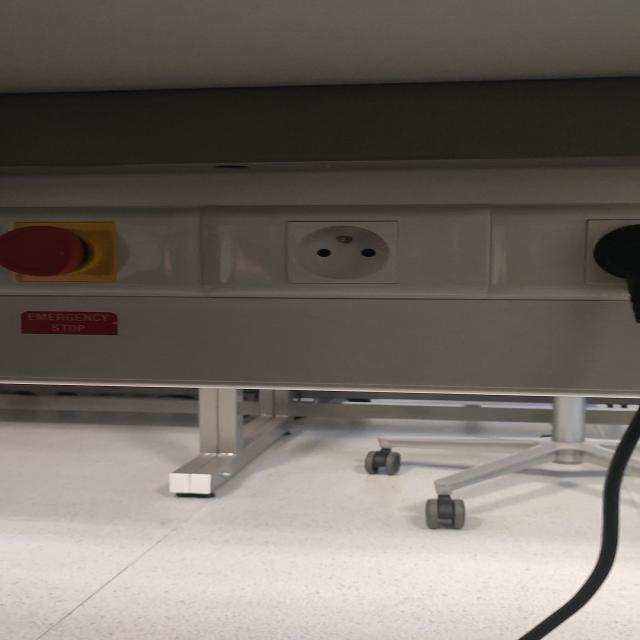house plug: (286, 218, 400, 285)
